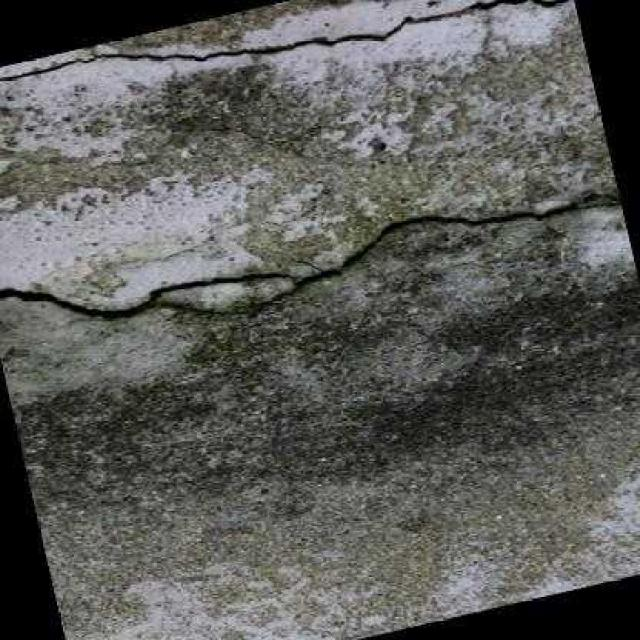D00: (0, 195, 622, 317), (0, 0, 575, 82)
